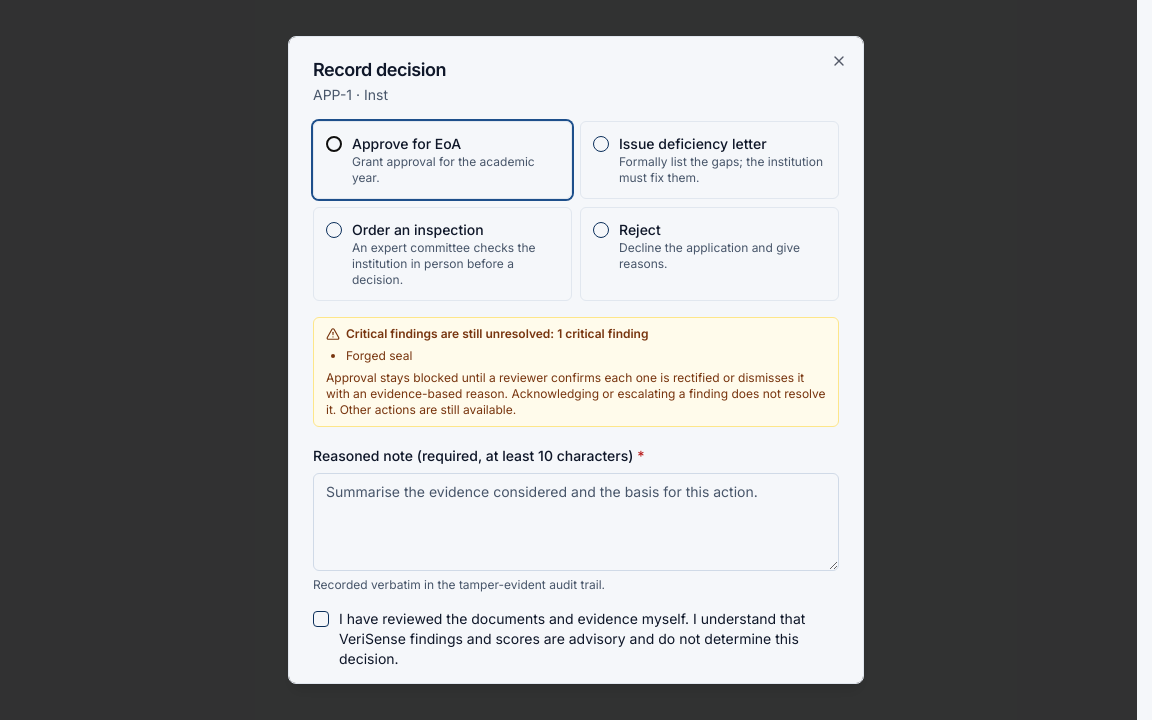
DecisionDialog guard › still allows other actions with unresolved critical findings
The image size is (1152, 720).
Click the radio button next to "Reject" at (601, 230), box 593,222 -> 609,238
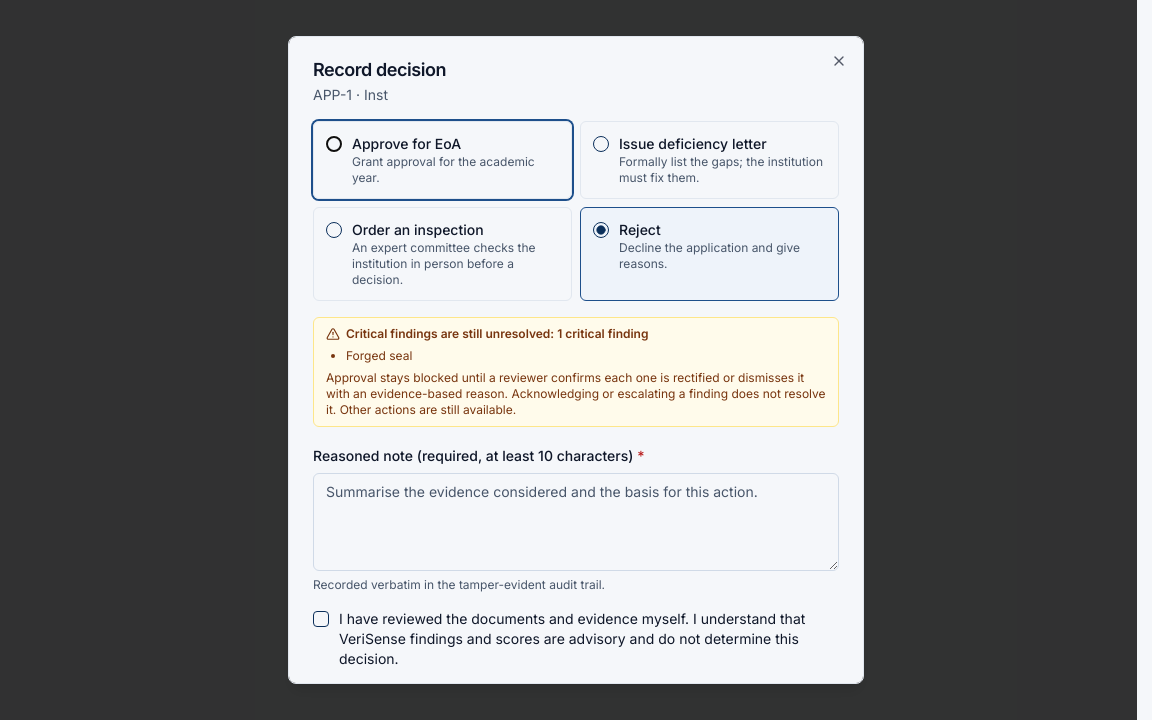
Replace the text in the text box with "A sufficiently long note" at (576, 522), box 313,473 -> 839,571
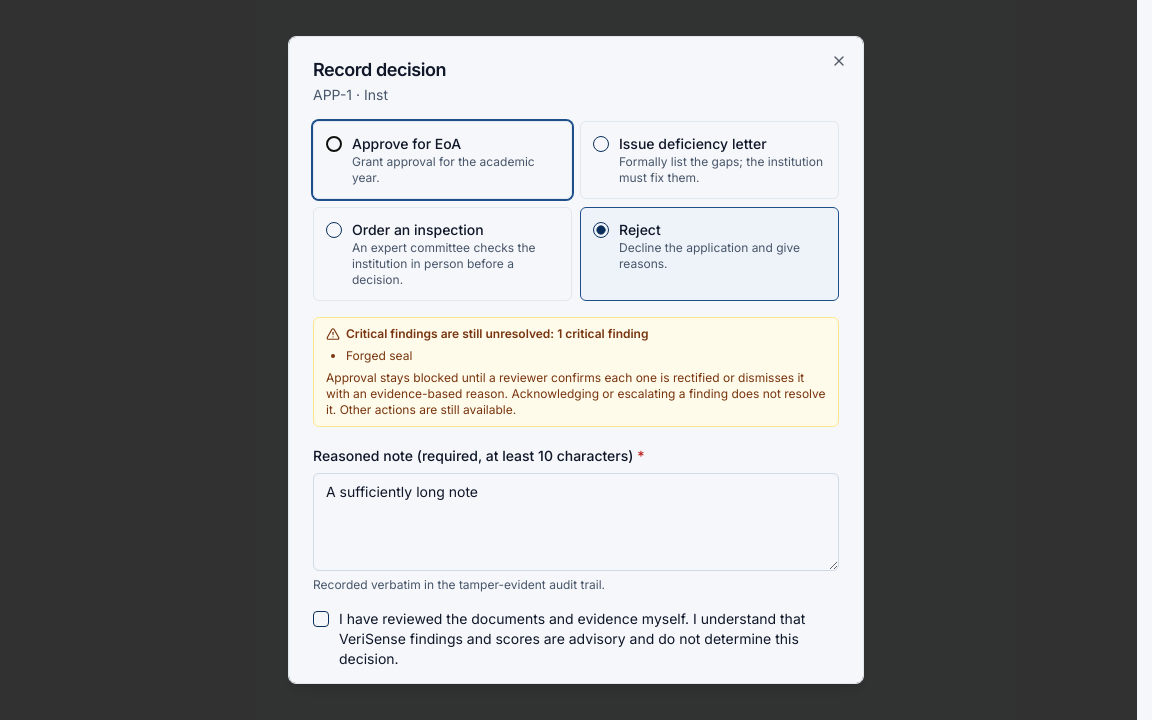
Click the checkbox at (321, 619), box 313,611 -> 329,627
(page scrolled)
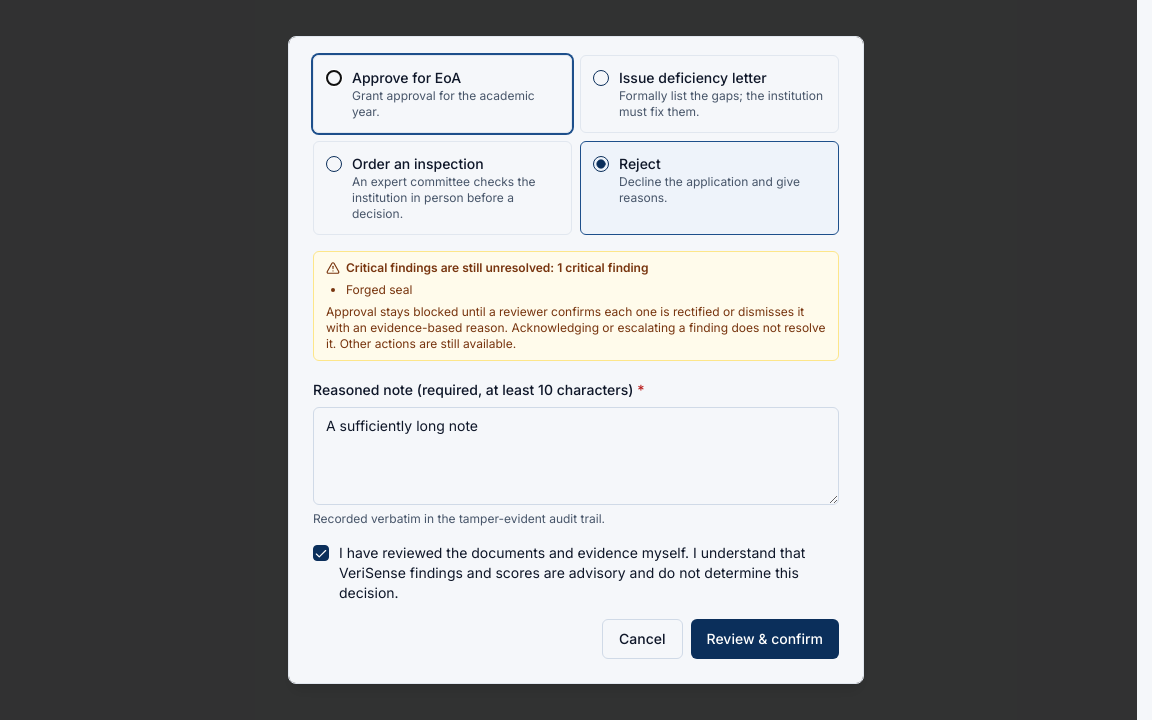
Check: the button "Review & confirm" is enabled, box 690,619 -> 839,659
